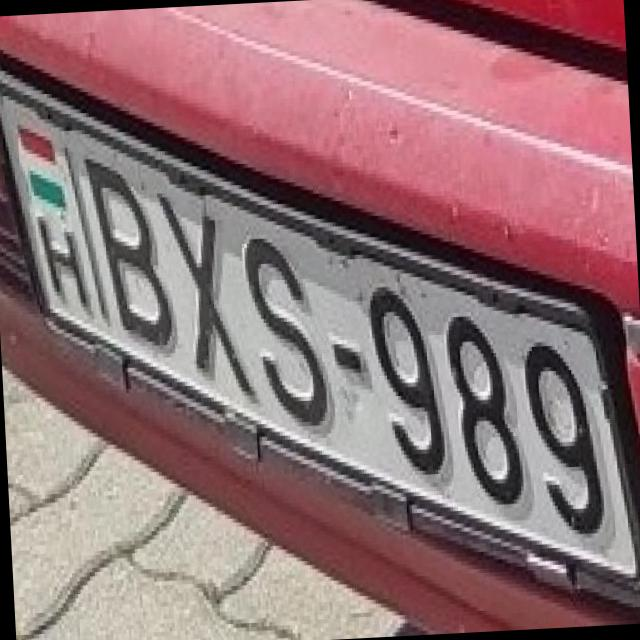8: (427, 289, 528, 508)
9: (507, 322, 613, 537), (352, 258, 453, 478)
B: (66, 130, 178, 358)
H: (15, 180, 94, 320)
S: (222, 214, 338, 430)
X: (151, 164, 255, 404)
